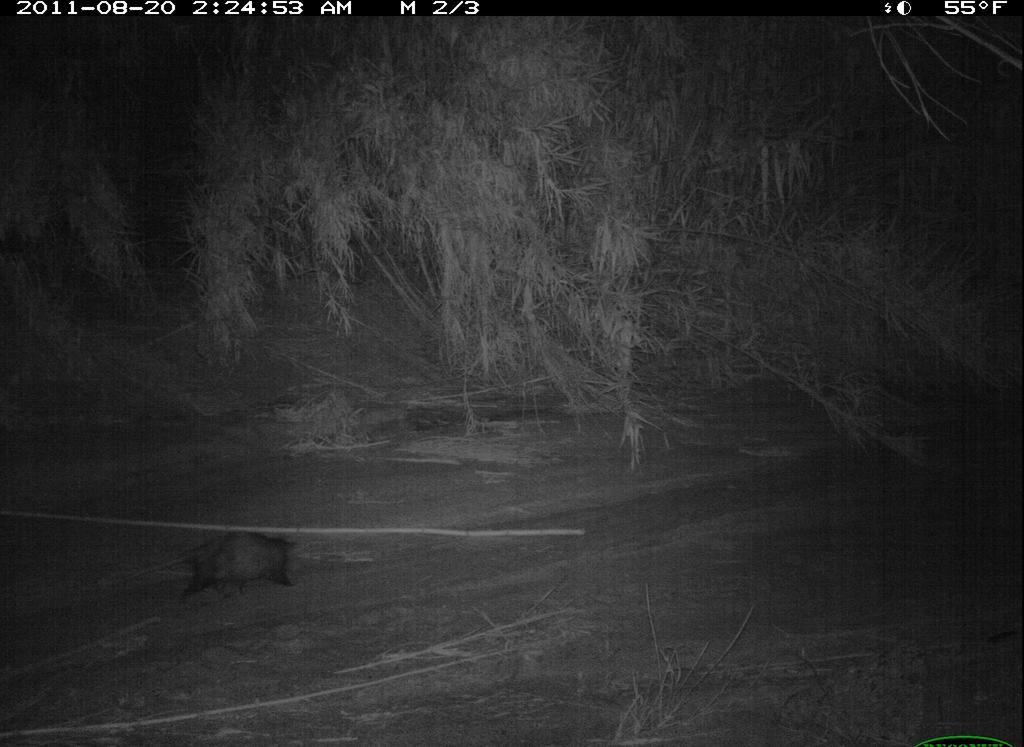opossum: (177, 515, 313, 617)
